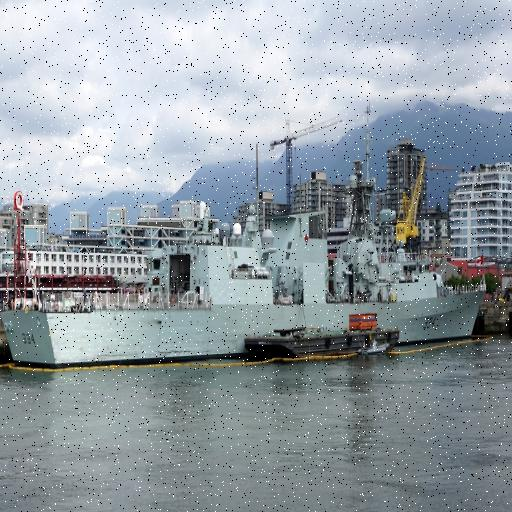Fragata: (1, 164, 492, 374)
